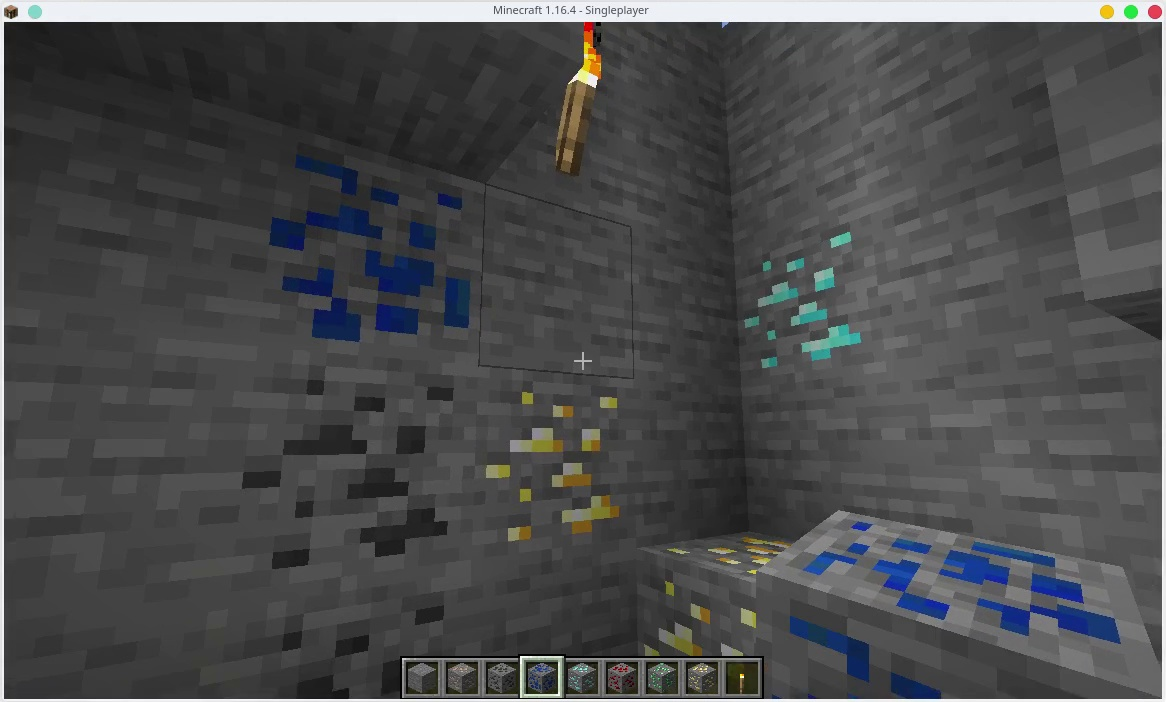gold: (467, 382, 625, 541), (637, 526, 756, 648), (686, 661, 720, 695)
